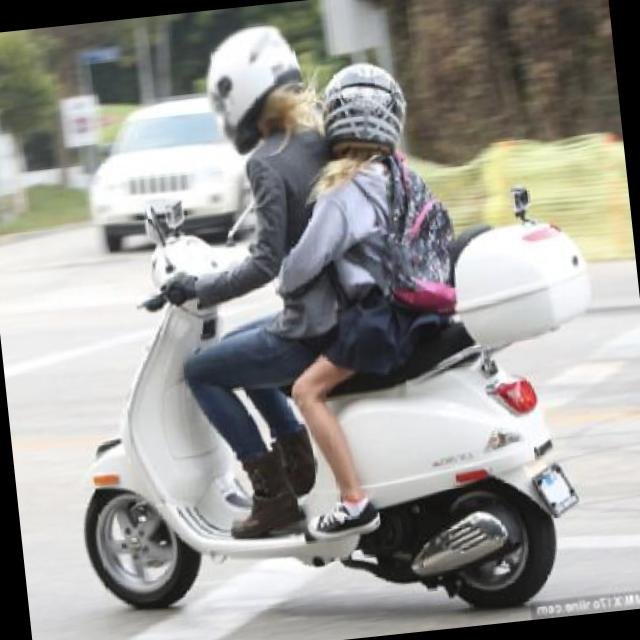With Helmet: (197, 12, 305, 157), (318, 59, 410, 151)
